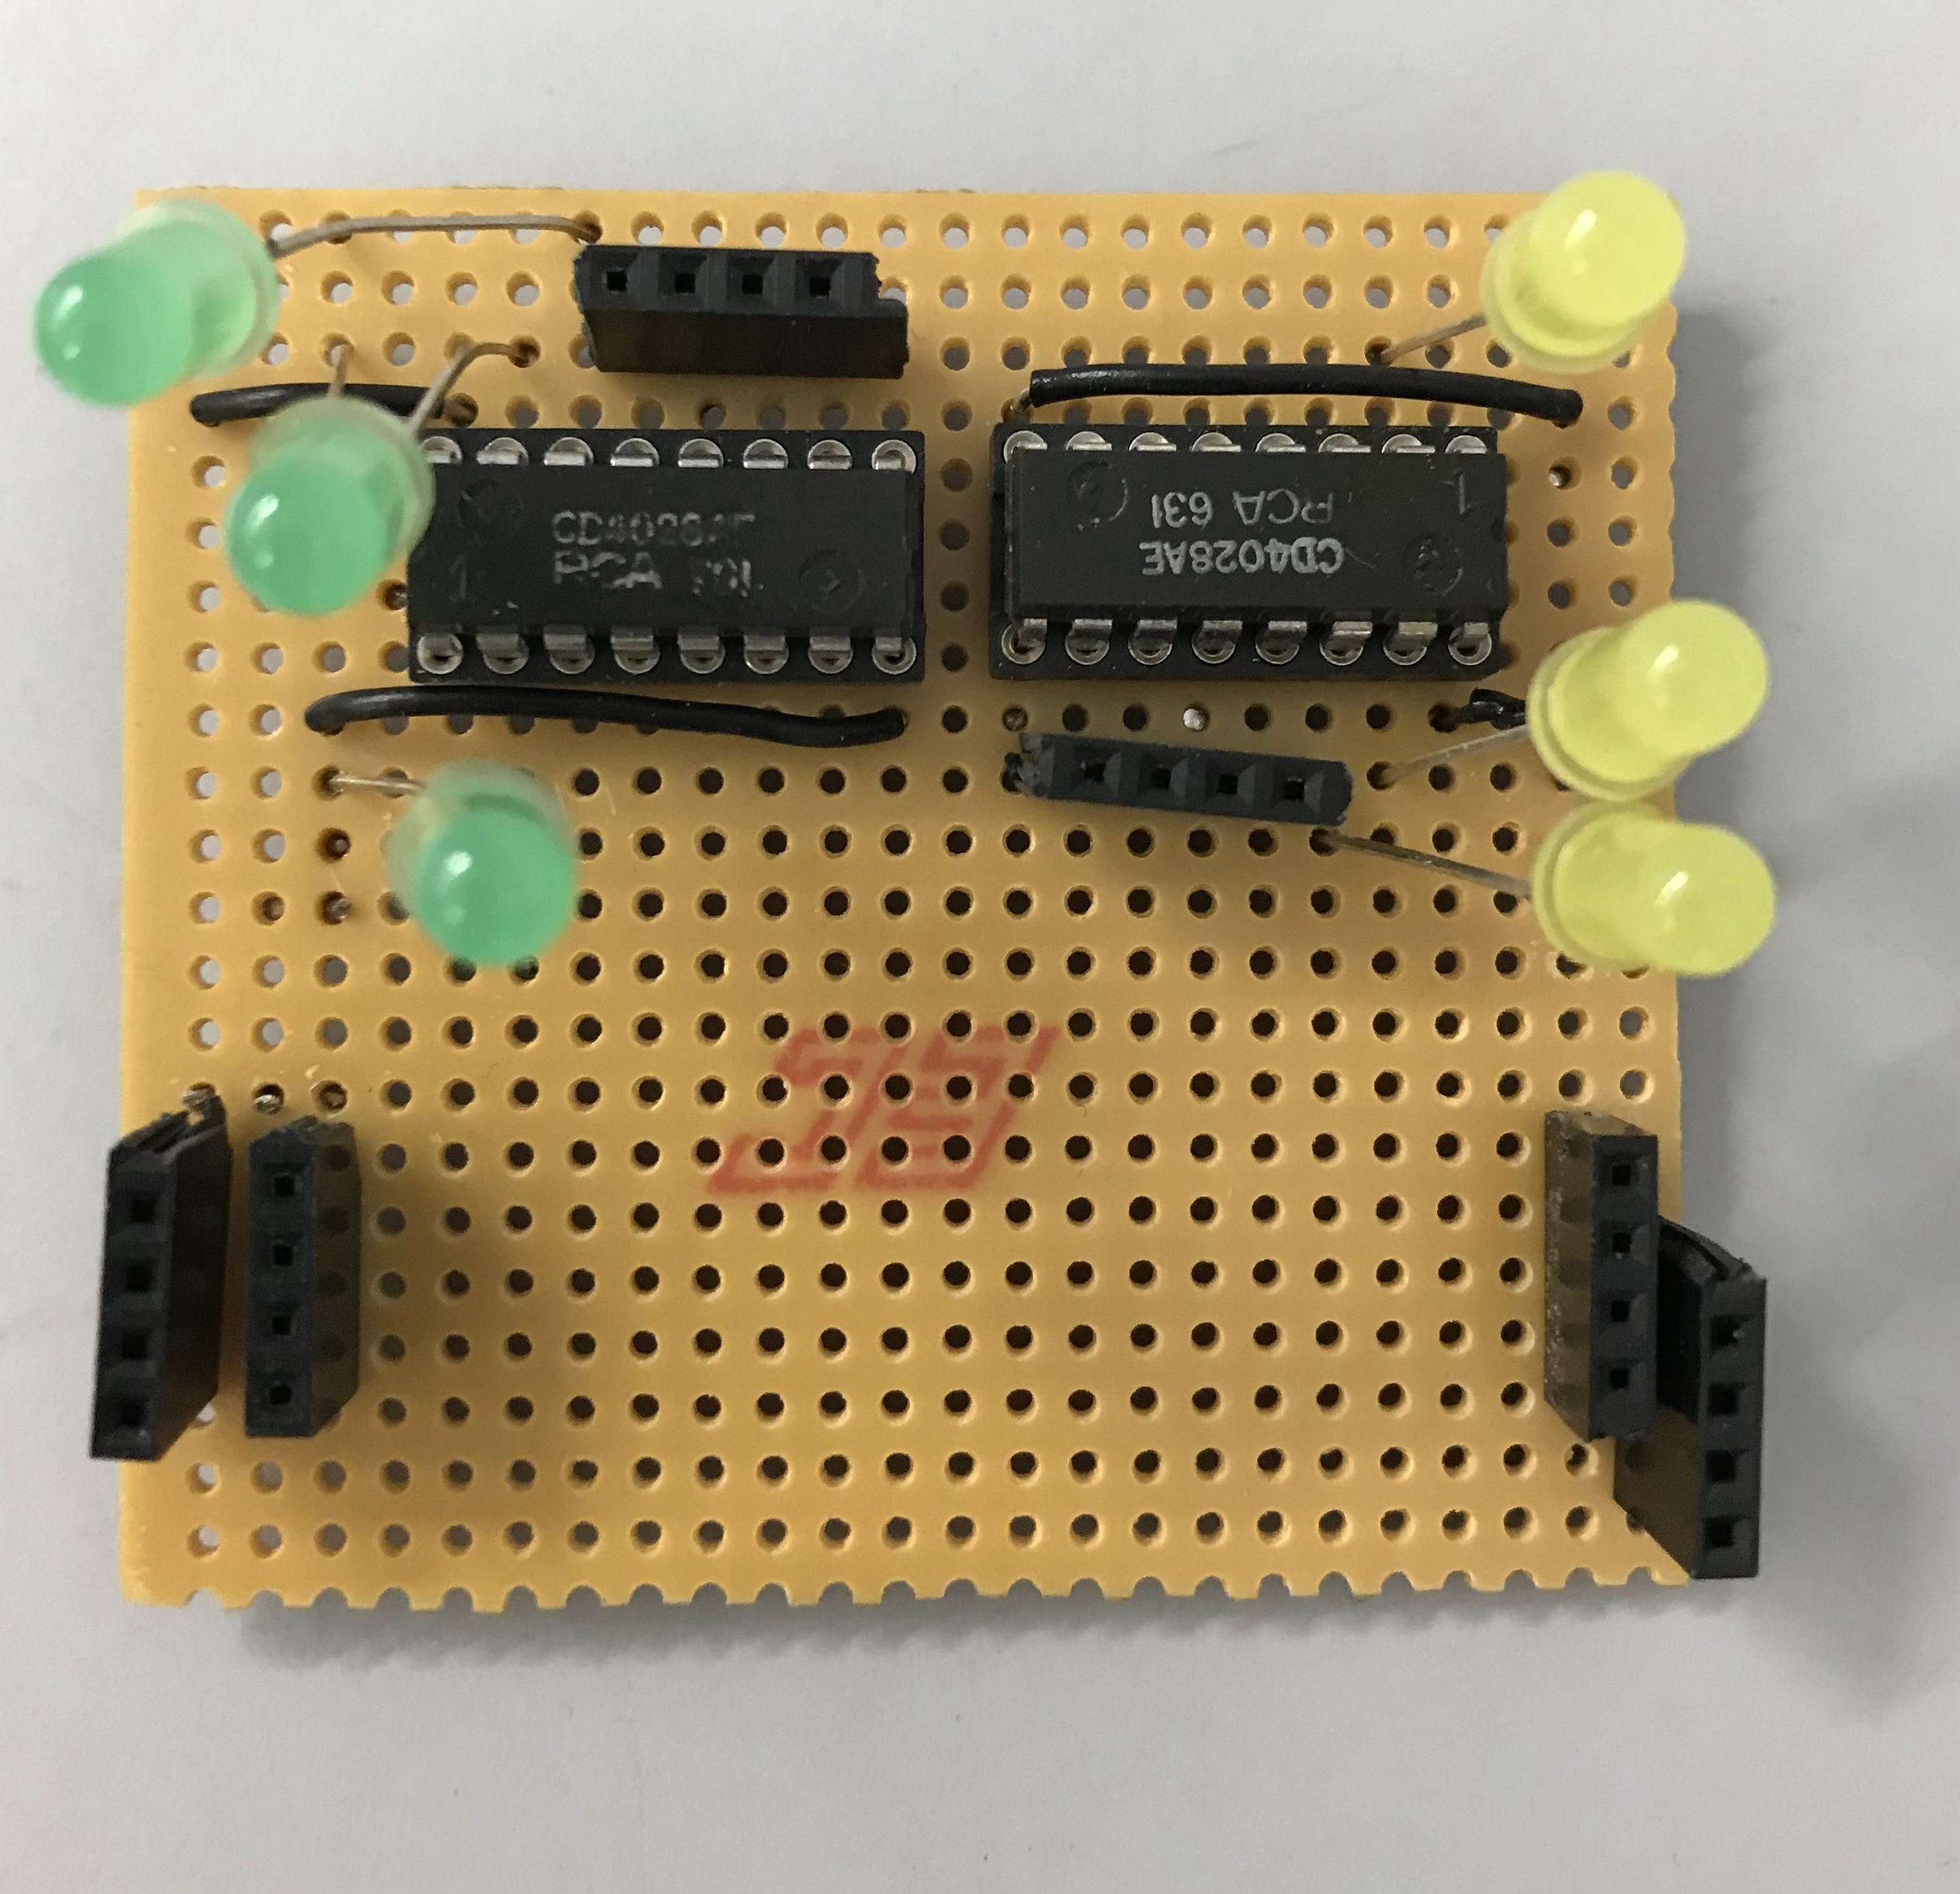LED: (24, 191, 287, 415), (1517, 597, 1778, 805), (224, 387, 446, 627), (1473, 161, 1690, 380), (1526, 798, 1783, 980), (376, 753, 584, 975)
